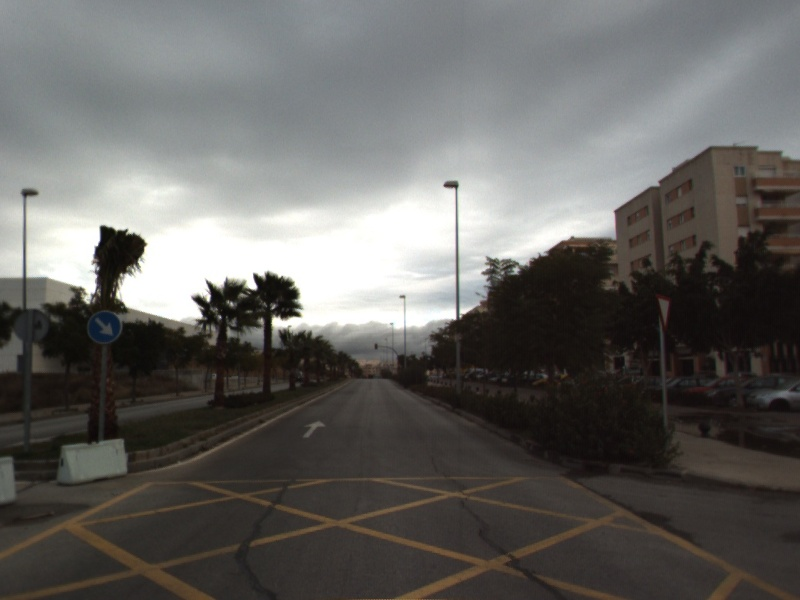STRAIGHT: (300, 418, 328, 440)
